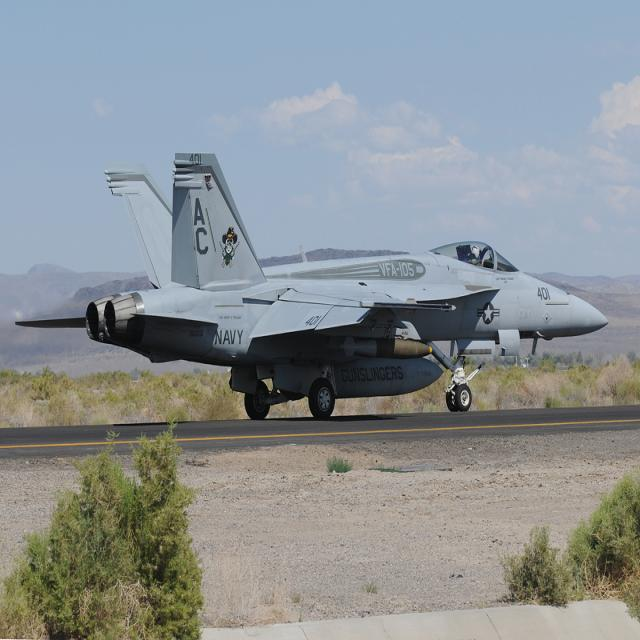MIL_Plane: (15, 152, 609, 420)
